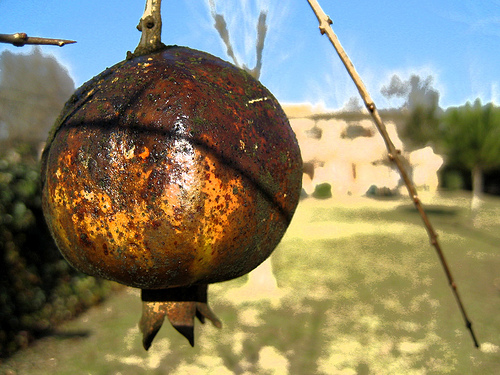pomogranate: (37, 45, 306, 351)
